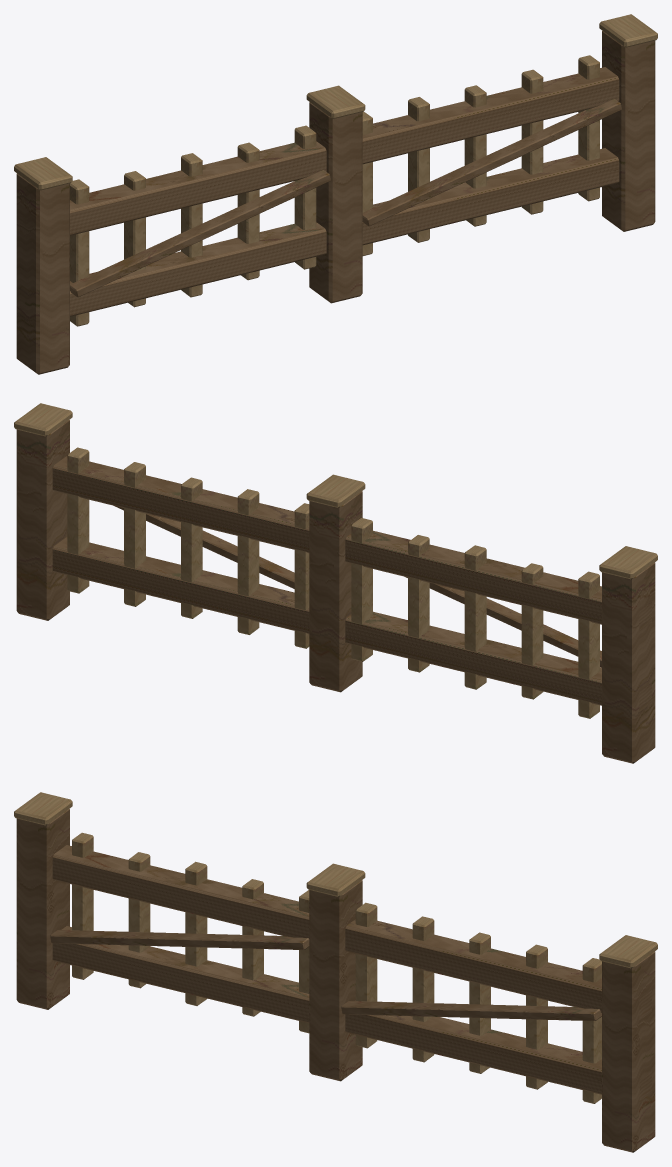
The model's file is fence_wood_4m.glb.
The picture shows the model from 3 angles, top to bottom: view 1: azimuth 30°, elevation 25°; view 2: azimuth 150°, elevation 25°; view 3: azimuth 330°, elevation 25°; orthographic projection.
Visible parts, largest first — view 1: fence_wood_4m; view 2: fence_wood_4m; view 3: fence_wood_4m.
Part boxes in pixels (x1,y1,x2,y2): fence_wood_4m: [14, 14, 657, 374]; fence_wood_4m: [14, 403, 657, 763]; fence_wood_4m: [14, 792, 657, 1152].
Size of the model in its own units: 4 by 1.2 by 0.3.
3 materials, 3 textured.
